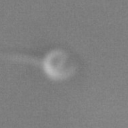normal: (1, 45, 43, 67)
